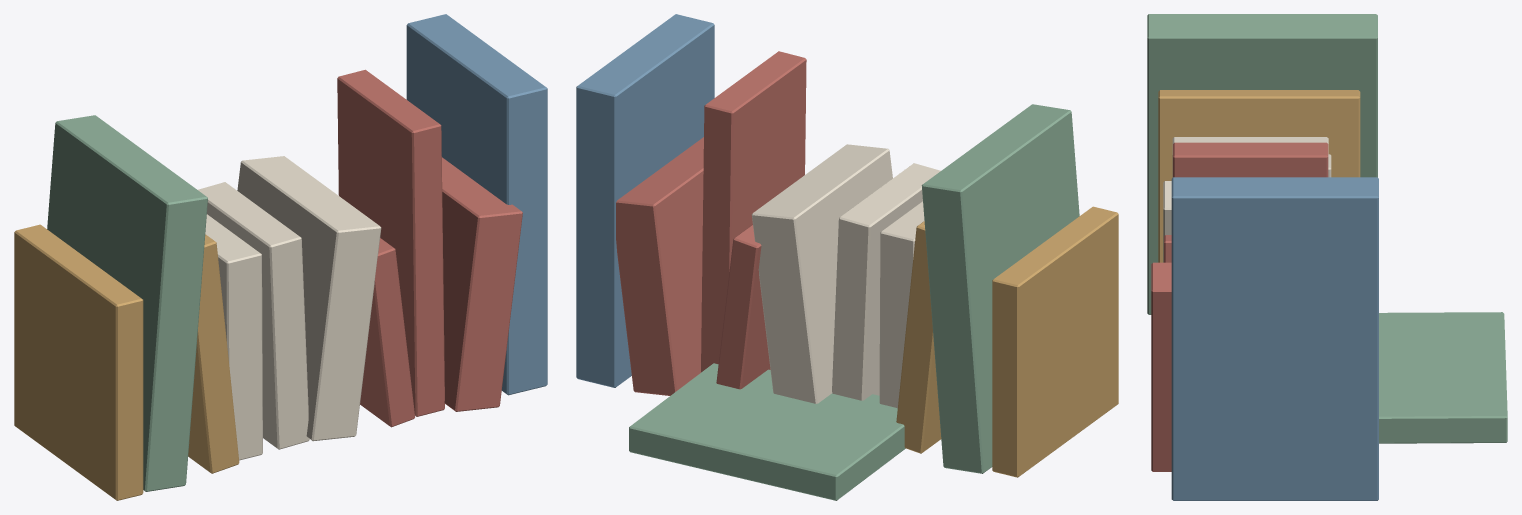
Rendered from fill_books.glb.
3 views of the same model, side by side, from view 1: azimuth 30°, elevation 25°; view 2: azimuth 150°, elevation 25°; view 3: azimuth 270°, elevation 25° (orthographic). The views are drawn at different scales.
Visible parts, largest first — view 1: fill_books_002_book_1, fill_books_001_book_0, fill_books_010_book_9, fill_books_008_book_7, fill_books_006_book_5, fill_books_009_book_8, fill_books_005_book_4, fill_books_004_book_3, fill_books_003_book_2, fill_books_007_book_6; view 2: fill_books_002_book_1, fill_books_001_book_0, fill_books_010_book_9, fill_books_011_book_flat_0, fill_books_006_book_5, fill_books_009_book_8, fill_books_008_book_7, fill_books_005_book_4, fill_books_003_book_2, fill_books_007_book_6, fill_books_004_book_3; view 3: fill_books_010_book_9, fill_books_002_book_1, fill_books_011_book_flat_0, fill_books_003_book_2, fill_books_008_book_7, fill_books_009_book_8, fill_books_004_book_3, fill_books_006_book_5.
Boxes of the visible parts, <box> form: fill_books_002_book_1: <box>47,115,207,491</box>; fill_books_001_book_0: <box>14,224,143,500</box>; fill_books_010_book_9: <box>406,14,547,395</box>; fill_books_008_book_7: <box>337,69,444,416</box>; fill_books_006_book_5: <box>237,156,381,441</box>; fill_books_009_book_8: <box>442,157,522,411</box>; fill_books_005_book_4: <box>198,182,309,449</box>; fill_books_004_book_3: <box>205,214,262,460</box>; fill_books_003_book_2: <box>188,234,239,473</box>; fill_books_007_book_6: <box>360,238,414,427</box>; fill_books_002_book_1: <box>921,104,1079,473</box>; fill_books_001_book_0: <box>992,206,1118,477</box>; fill_books_010_book_9: <box>576,14,714,387</box>; fill_books_011_book_flat_0: <box>629,363,905,500</box>; fill_books_006_book_5: <box>751,144,892,403</box>; fill_books_009_book_8: <box>616,137,703,395</box>; fill_books_008_book_7: <box>701,51,806,372</box>; fill_books_005_book_4: <box>832,163,940,400</box>; fill_books_003_book_2: <box>896,221,941,453</box>; fill_books_007_book_6: <box>716,225,770,389</box>; fill_books_004_book_3: <box>879,201,924,407</box>; fill_books_010_book_9: <box>1171,177,1378,500</box>; fill_books_002_book_1: <box>1147,14,1377,314</box>; fill_books_011_book_flat_0: <box>1379,312,1507,443</box>; fill_books_003_book_2: <box>1158,90,1360,262</box>; fill_books_008_book_7: <box>1173,142,1328,177</box>; fill_books_009_book_8: <box>1151,262,1171,471</box>; fill_books_004_book_3: <box>1172,137,1328,177</box>; fill_books_006_book_5: <box>1163,181,1171,262</box>.
Bounding box in the file's own units: 0.4723 × 0.305 × 0.3269.
